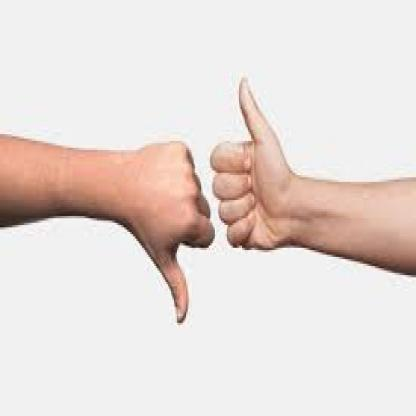thumb_down: (127, 136, 216, 326), (208, 70, 294, 254)
